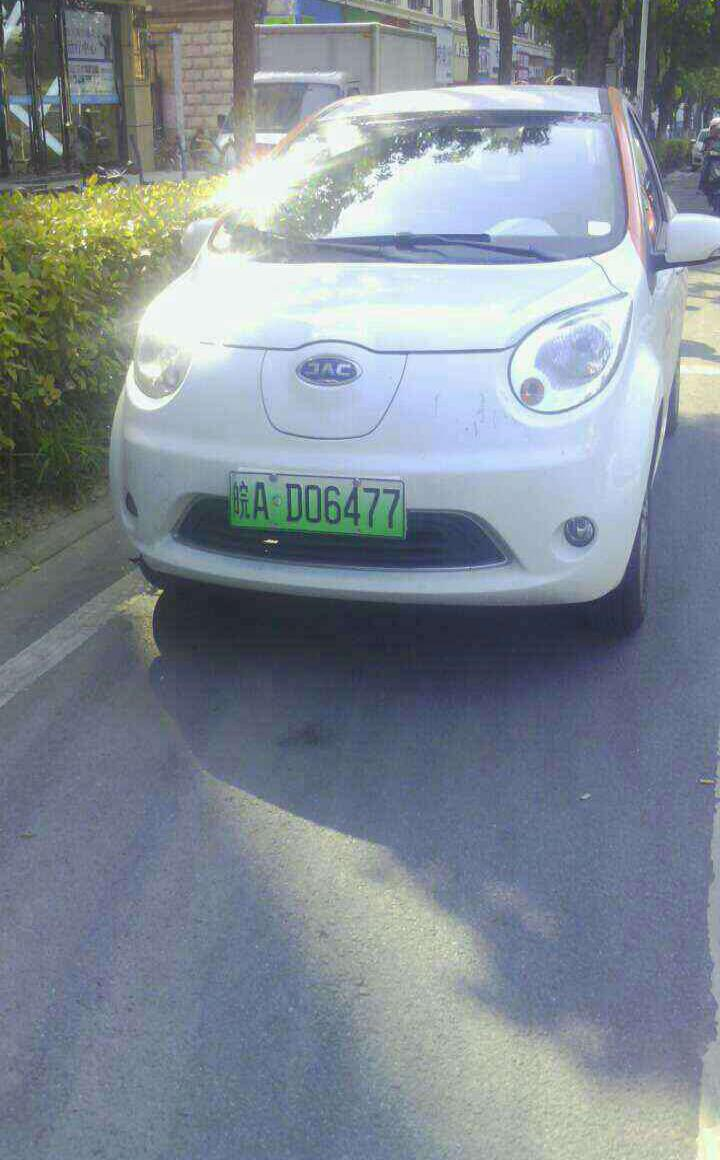car: (218, 473, 416, 535)
